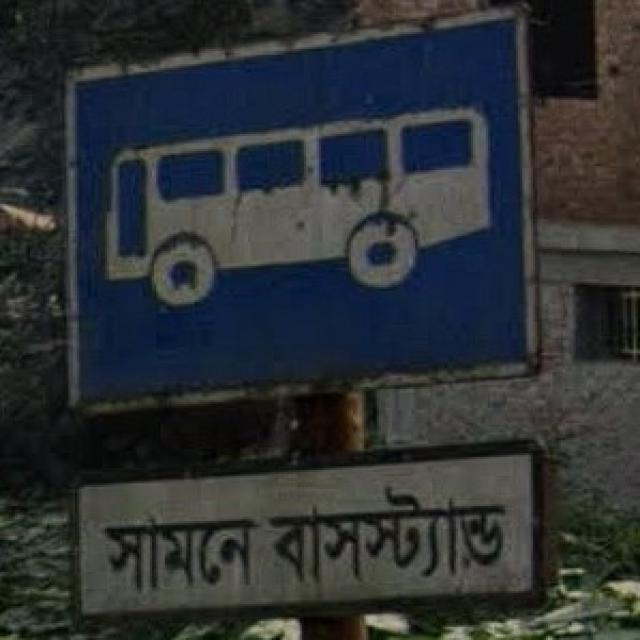Ahead-the-bus-station: (56, 64, 561, 607)
